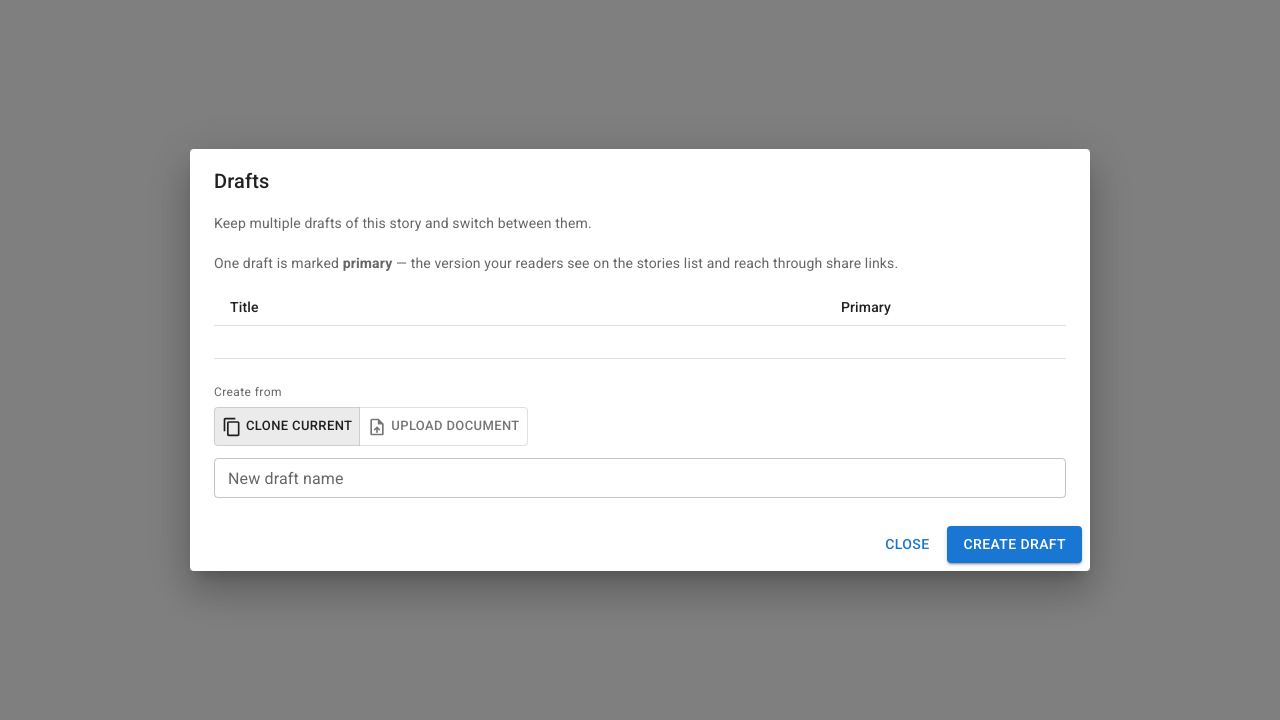
DraftsDialog › surfaces an inline error when Create draft is clicked without a name
Click the button "Create draft".
click(1015, 544)  # box x1=947 y1=526 x2=1082 y2=563
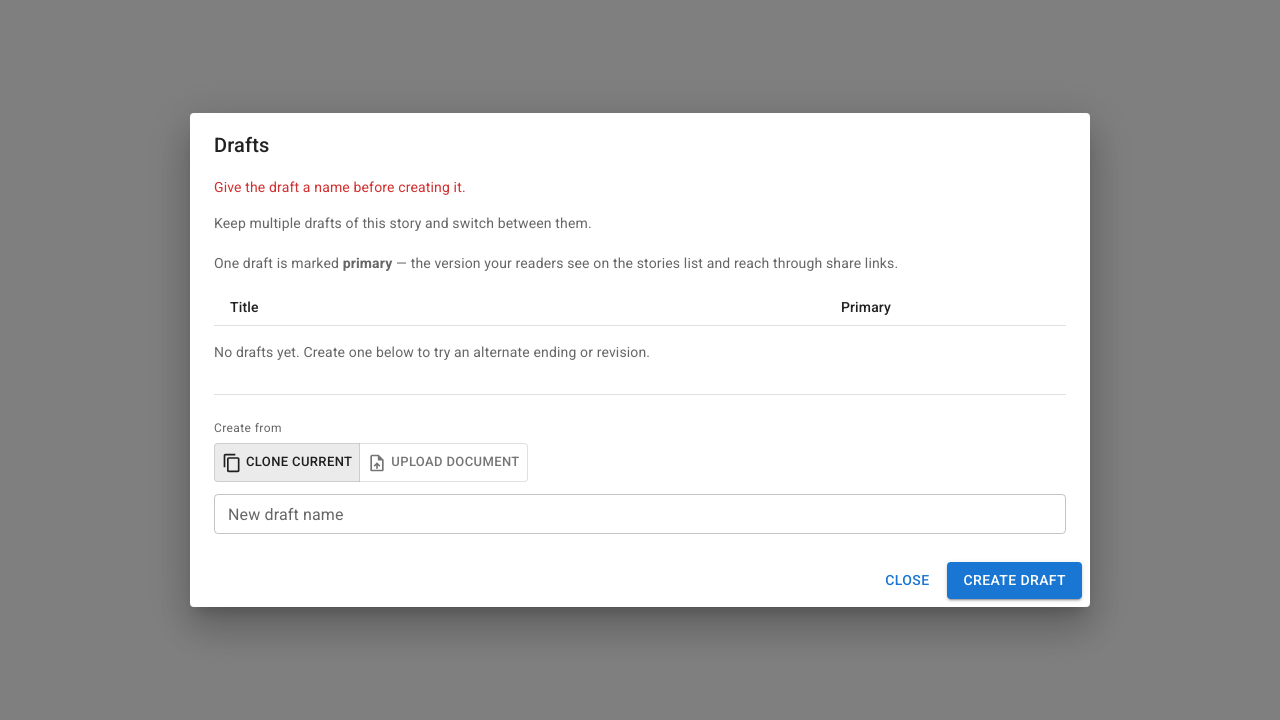
Result: the text "Give the draft a name before creating it." is shown at x1=214 y1=179 x2=466 y2=195
